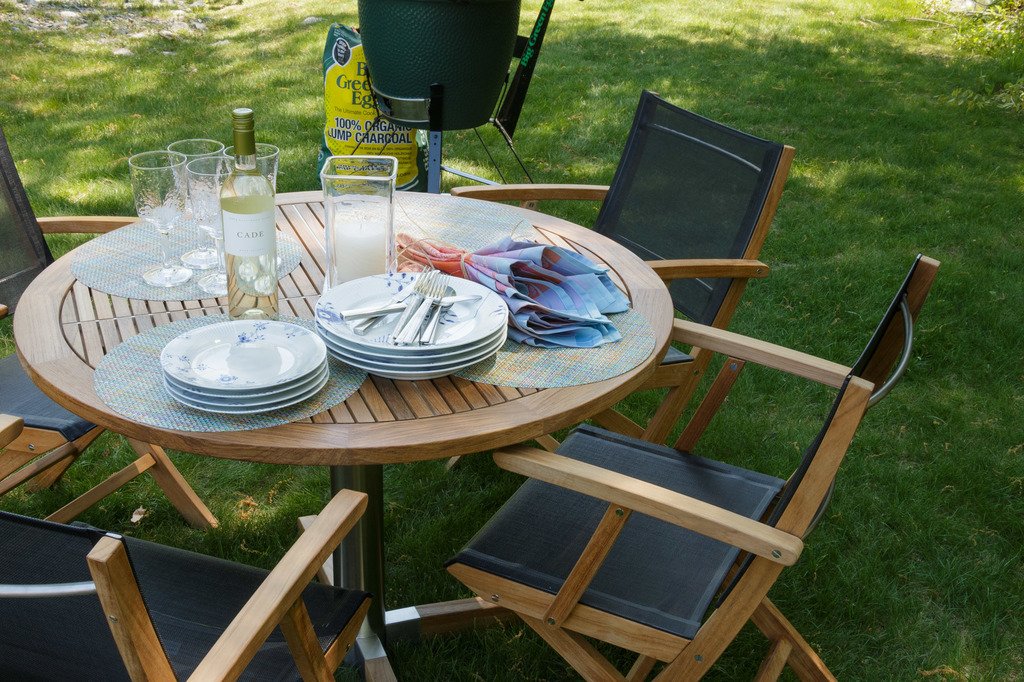plate: (140, 309, 323, 398)
